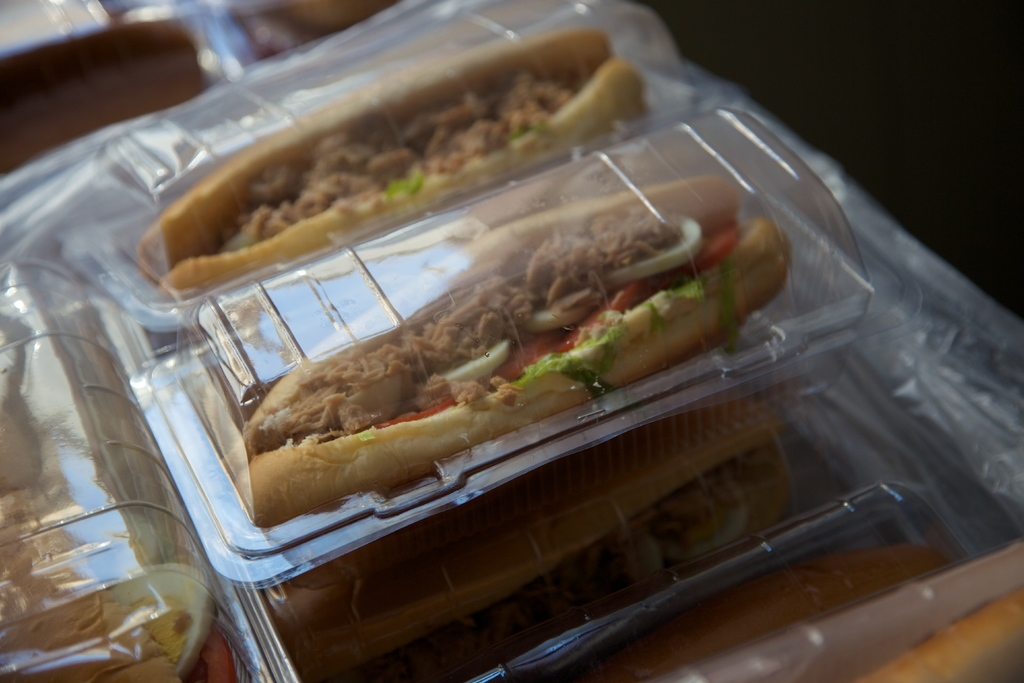hot_dog: (201, 164, 802, 525), (134, 28, 644, 299)
